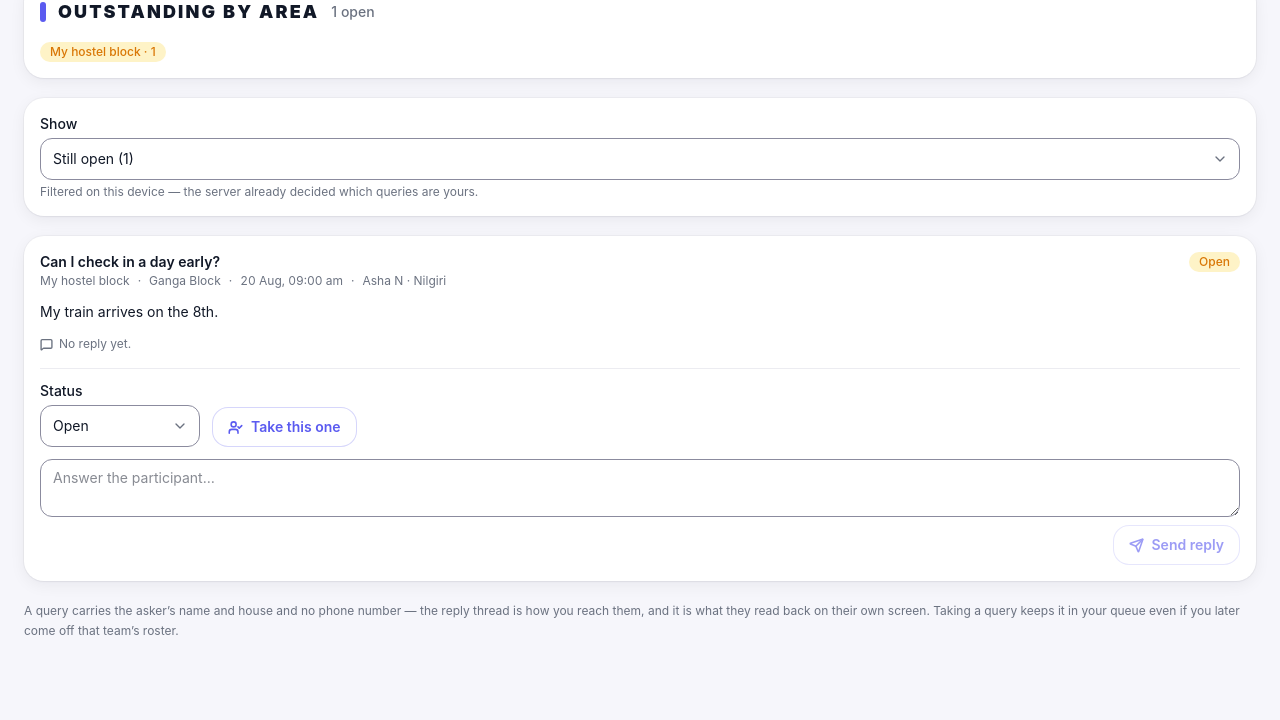
Scenario: StaffSupportPage › the questions tab › answers the participant in one box
The image size is (1280, 720).
(page scrolled)
Expected: the heading "Can I check in a day early?" is shown, 40,253 -> 220,270
Click the text box with placeholder "Answer the participant…" at (640, 488), box 40,459 -> 1240,517
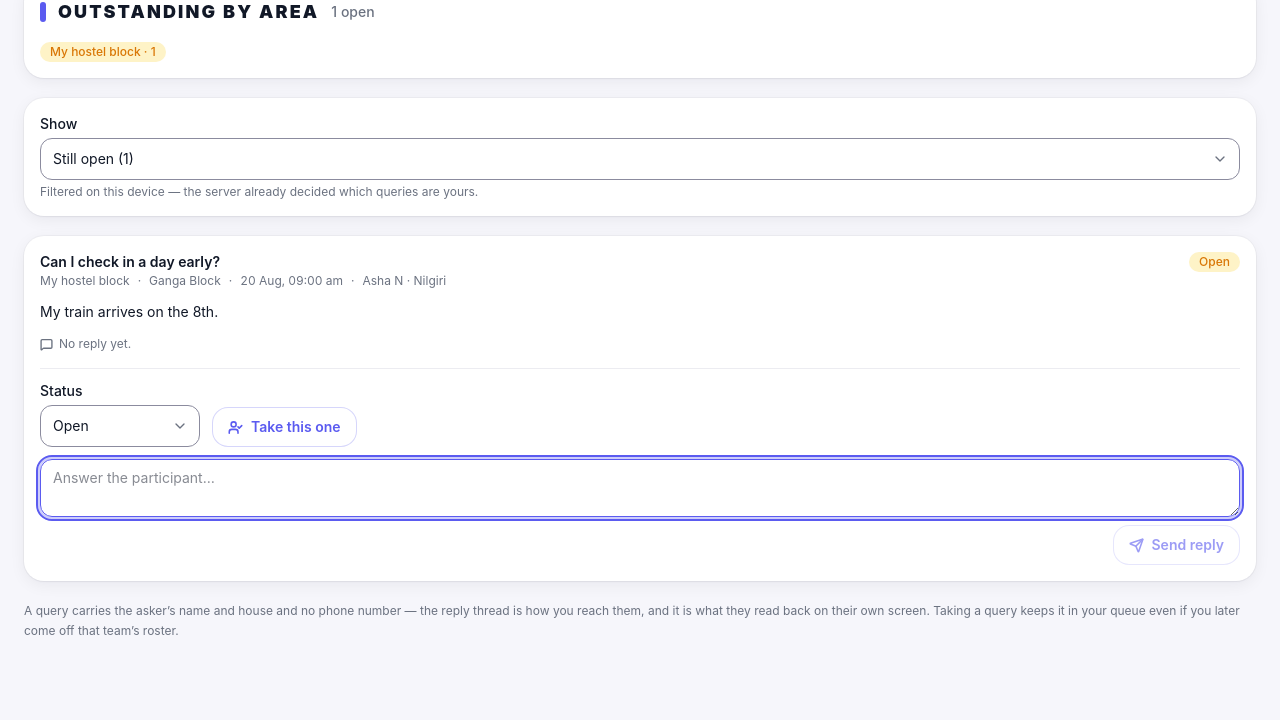
Type keys "Yes, report to the desk after 6pm."
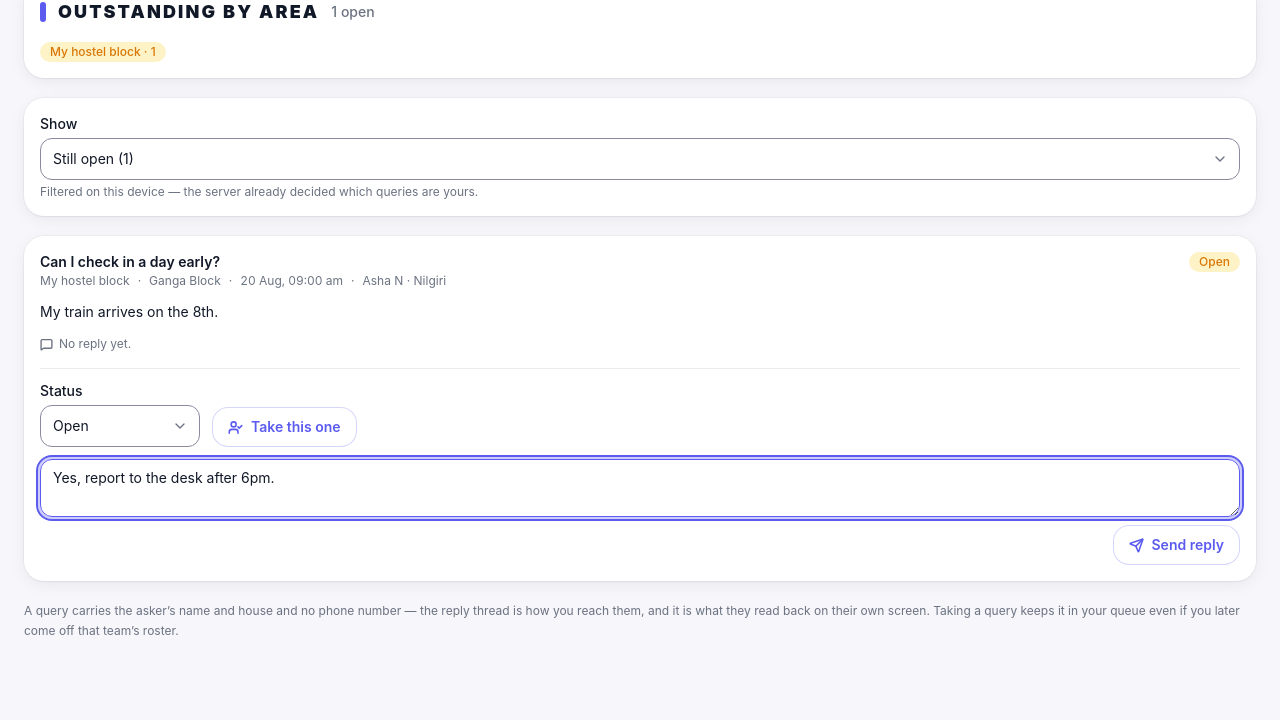
Click the button "Send reply" at (1176, 545), box 1112,525 -> 1240,565
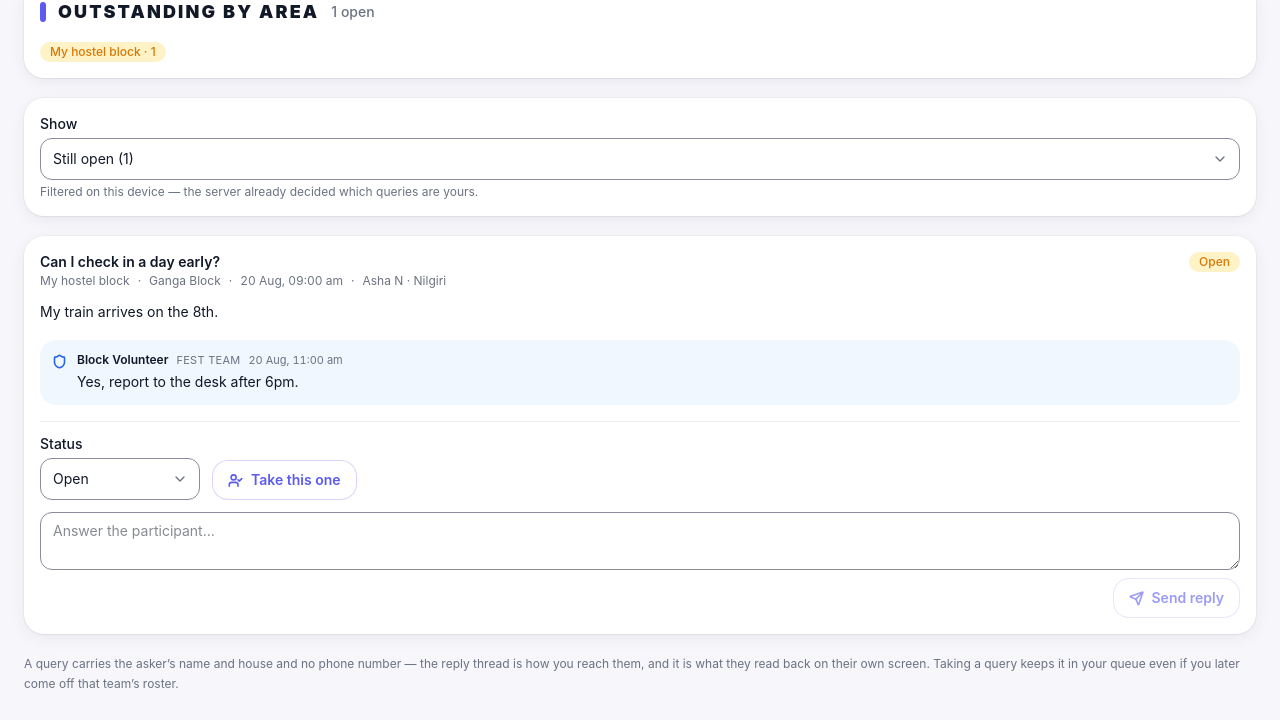
Now the text "Yes, report to the desk after 6pm." is shown, box 77,372 -> 298,390
